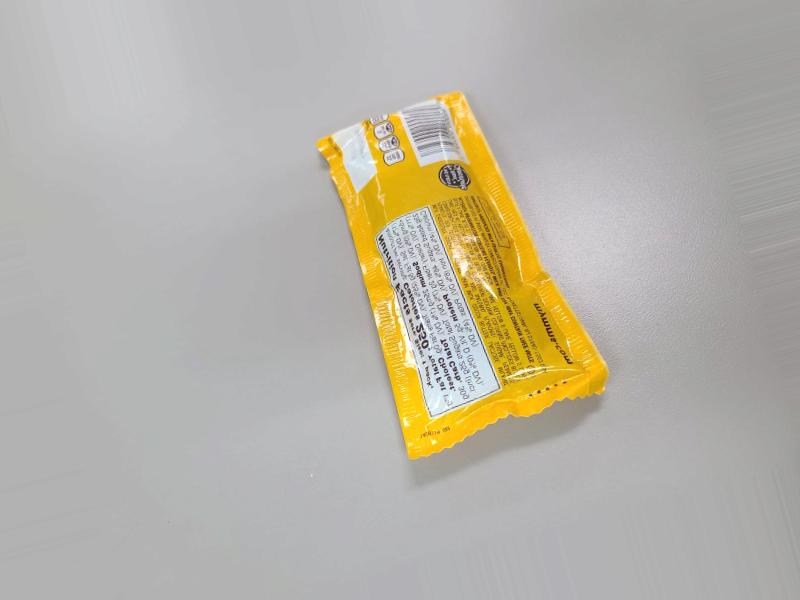m&m: (304, 55, 589, 485)
